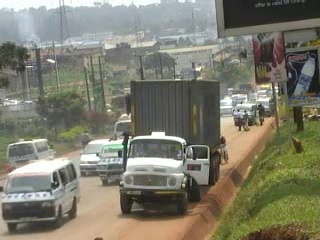Car: (76, 137, 110, 176)
Motorcycle: (76, 129, 94, 151)
